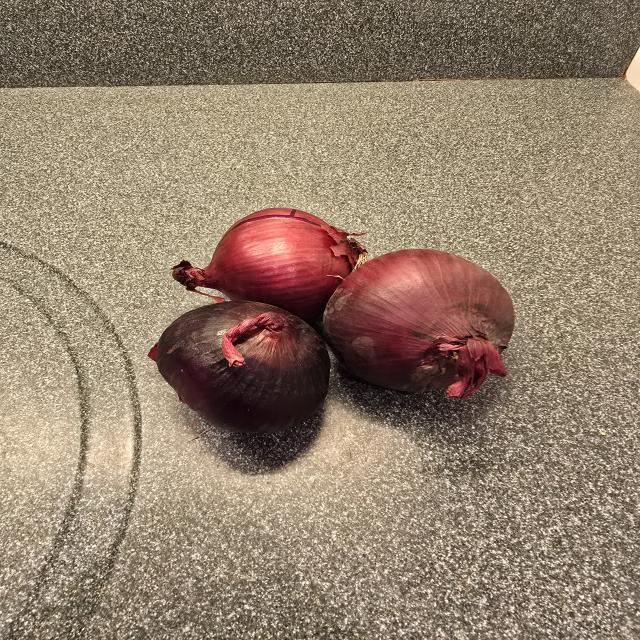Onion: (321, 245, 516, 396), (153, 301, 330, 433), (173, 209, 364, 315)
